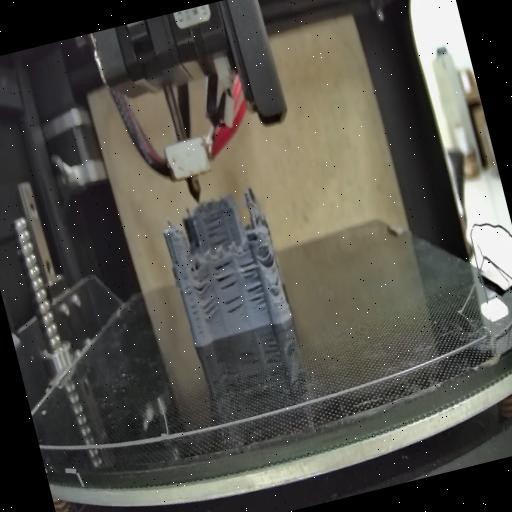cracks: (180, 276, 204, 340), (200, 208, 232, 248), (214, 258, 242, 293), (246, 282, 270, 314), (236, 252, 260, 280), (224, 294, 248, 320), (192, 274, 215, 297), (201, 300, 220, 320), (263, 244, 276, 266), (272, 274, 284, 292), (172, 254, 181, 266)
